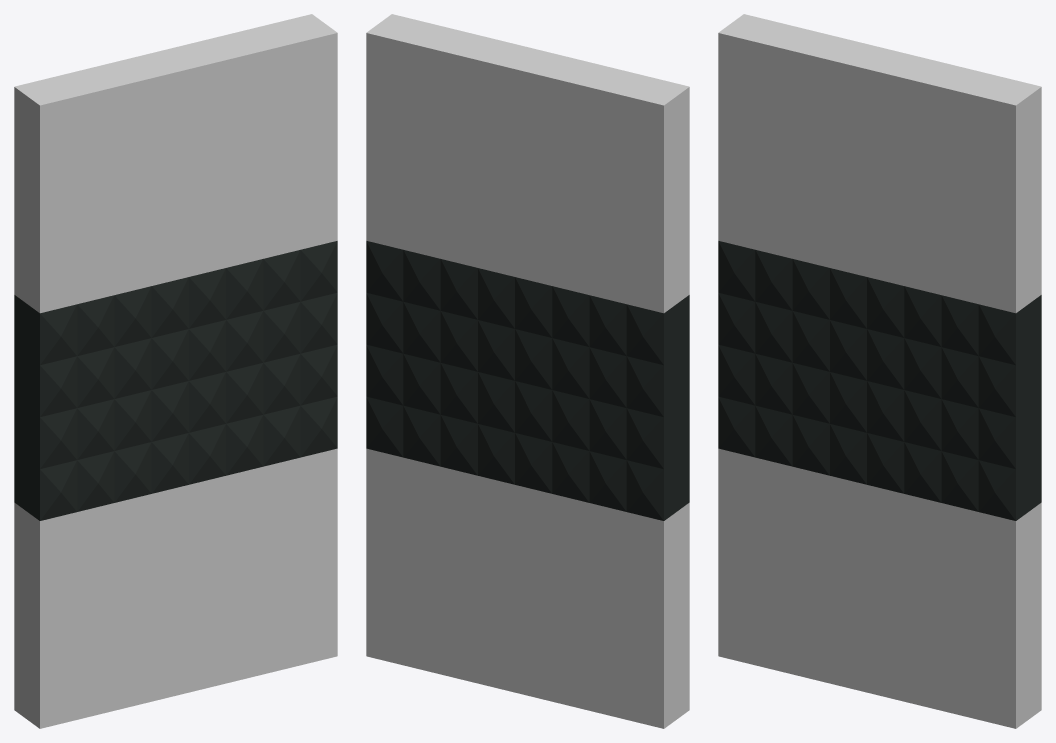
File: AcousticPanelWall.glb
The picture shows the model from 3 angles, left to right: view 1: azimuth 30°, elevation 25°; view 2: azimuth 150°, elevation 25°; view 3: azimuth 330°, elevation 25°; orthographic projection.
Parts seen in each view (by area): view 1: wall_triPanel; view 2: wall_triPanel; view 3: wall_triPanel.
Boxes of the visible parts, bbox=[...] form: wall_triPanel: bbox=[14, 14, 337, 728]; wall_triPanel: bbox=[366, 14, 689, 728]; wall_triPanel: bbox=[718, 14, 1041, 728].
Size of what is drawn, in the model's own units: 2 by 4 by 0.3584.
1 material, 1 textured.
